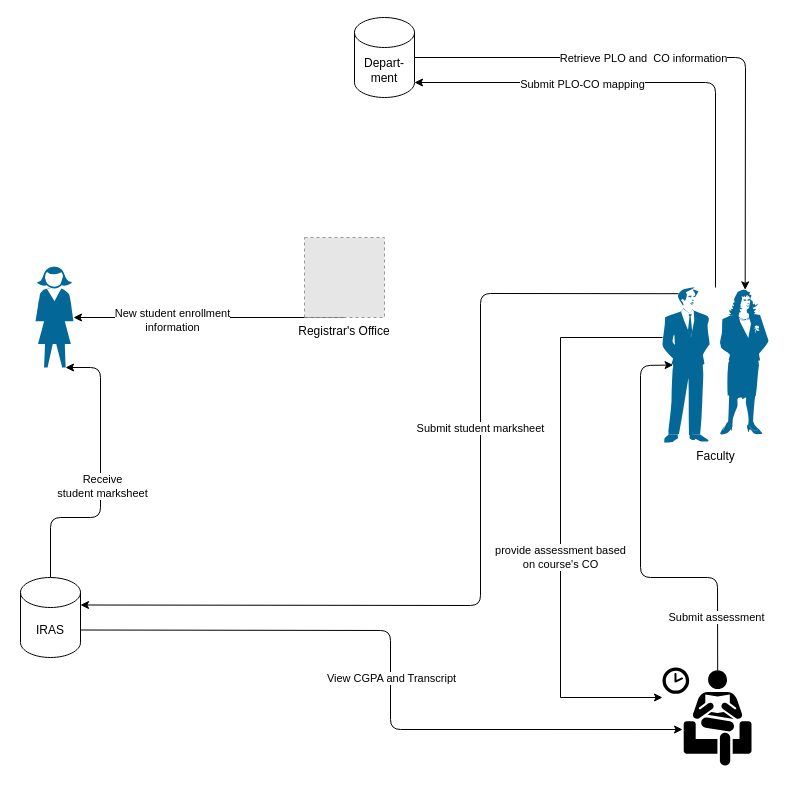
Some shapes in this 787 by 804 pixel diagram are drawn without their labels. Grey dashed boxes stand in for pictures. The shapes that lost their labels are listed below. From the top down, each one's centre as x and y in pixels, then its label:
pixel 54 317: VC, Dean, Head, Faculty
pixel 706 716: Student
